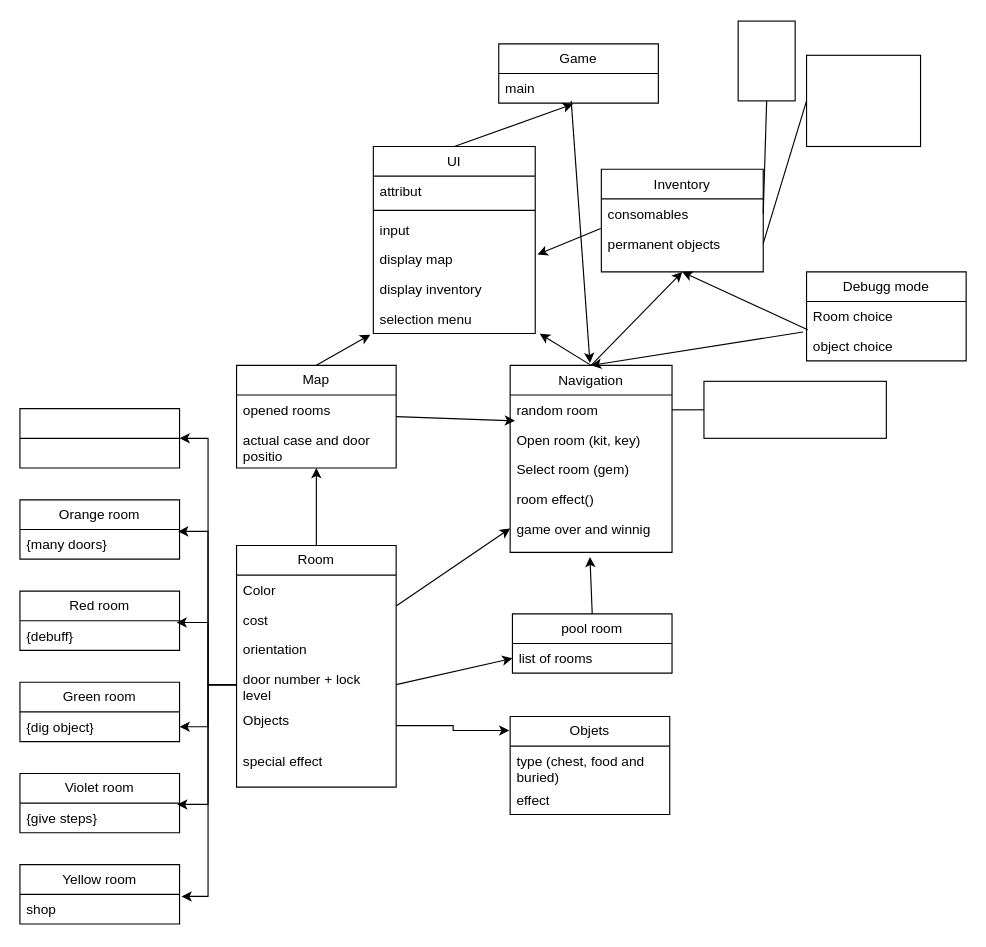
The diagram is 986 pixels wide and 947 high, and some of its shapes have lost their labels. The centre of each missing label's shape, as x and y in pixels:
Blue room: point 99,438
random objects random locks (y_pos): point 794,409
shovel lockpick kit lucky rabbit's foot metal detector hammer: point 863,100
steps coins gems keys dices: point 766,60
